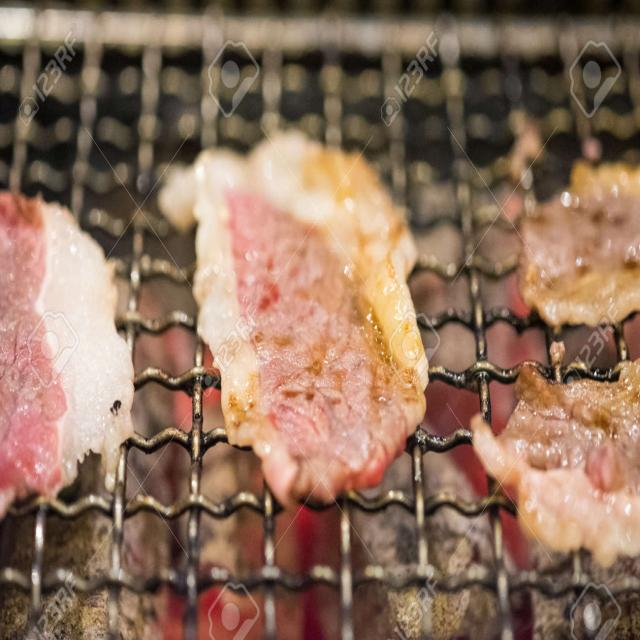carne de cerdo: (159, 137, 443, 508)
